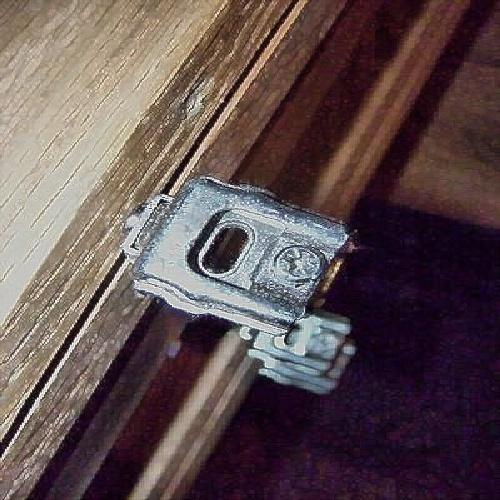cabinet: (14, 21, 456, 481)
